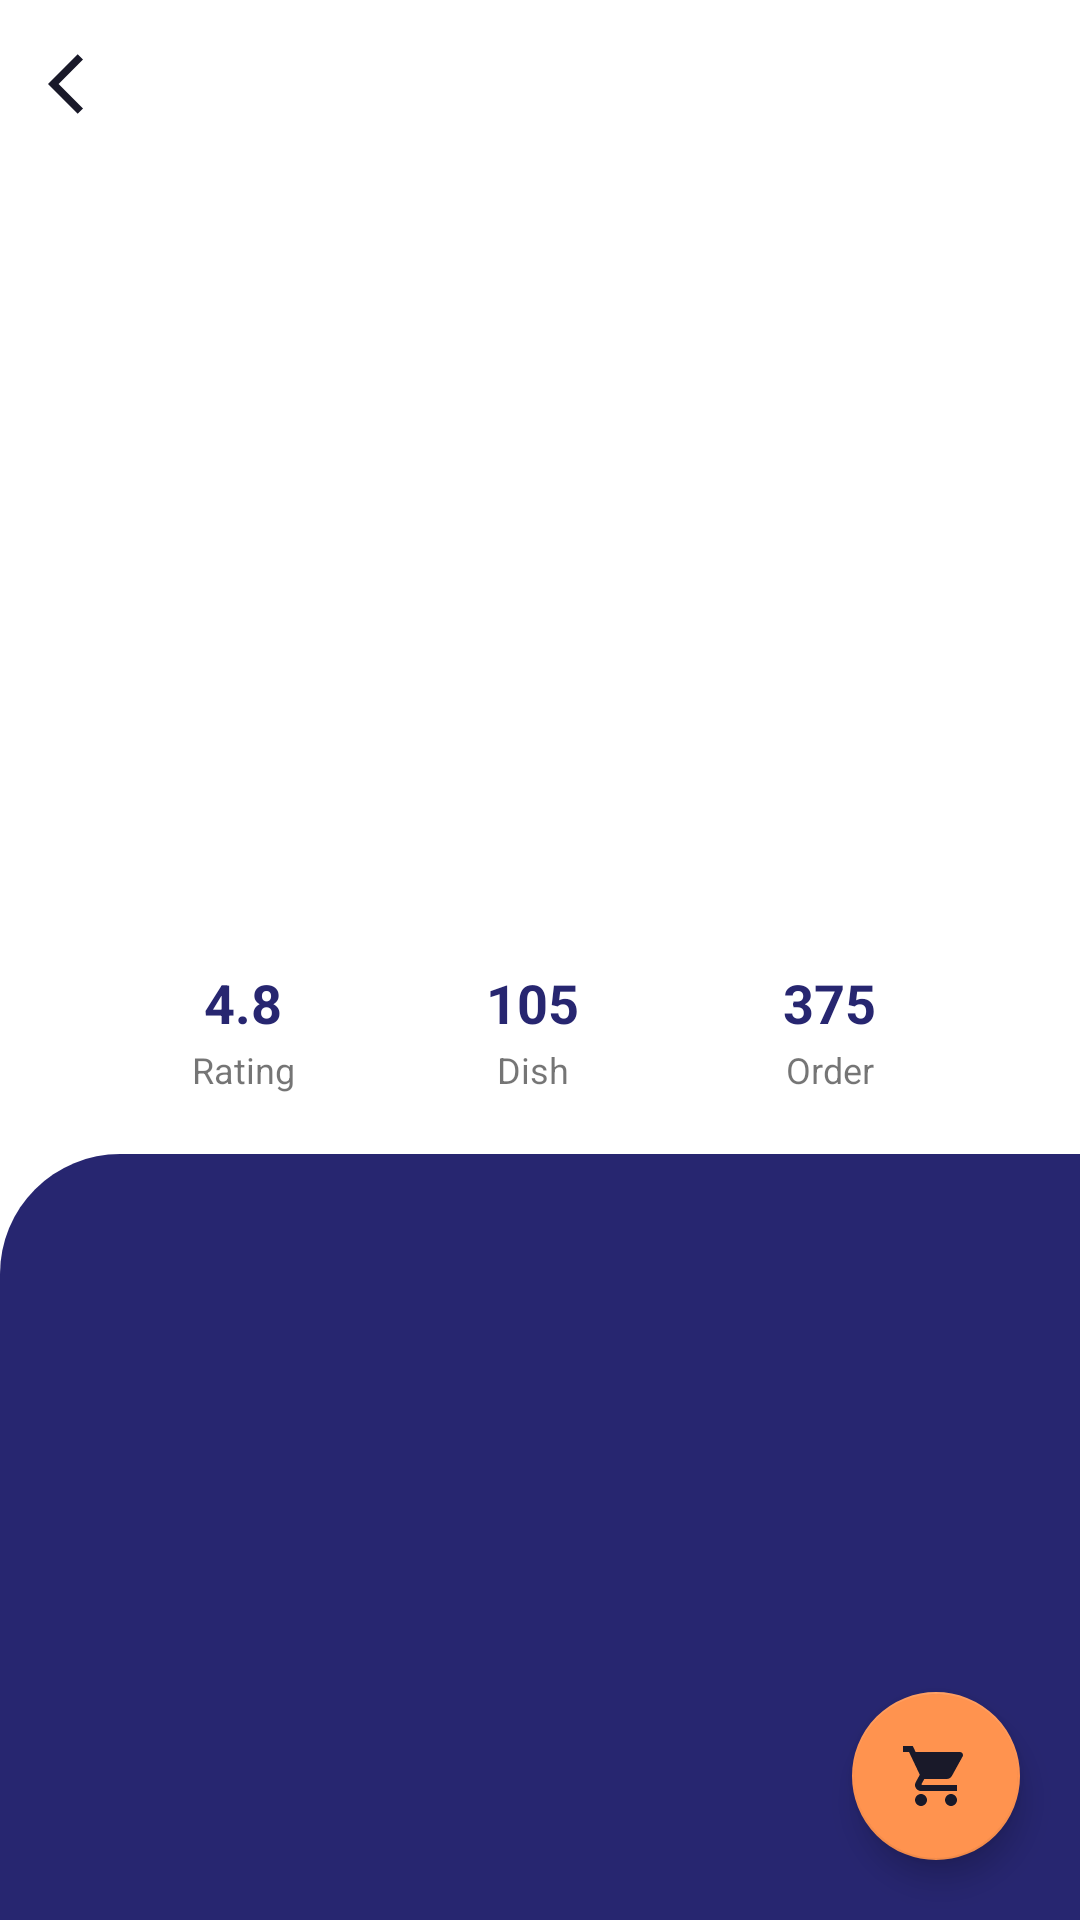

Named icons in this screenshot (1080 x 1920) and their bounding boxes, (x1, y1, x2, y2):
Back to Main: (48, 54, 83, 114)
shopping cart: (852, 1692, 1020, 1860)
